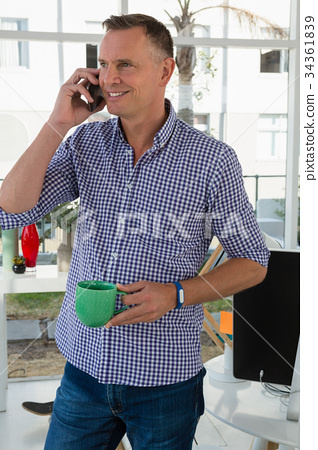phone: (80, 68, 113, 111)
talk: (61, 45, 158, 134)
